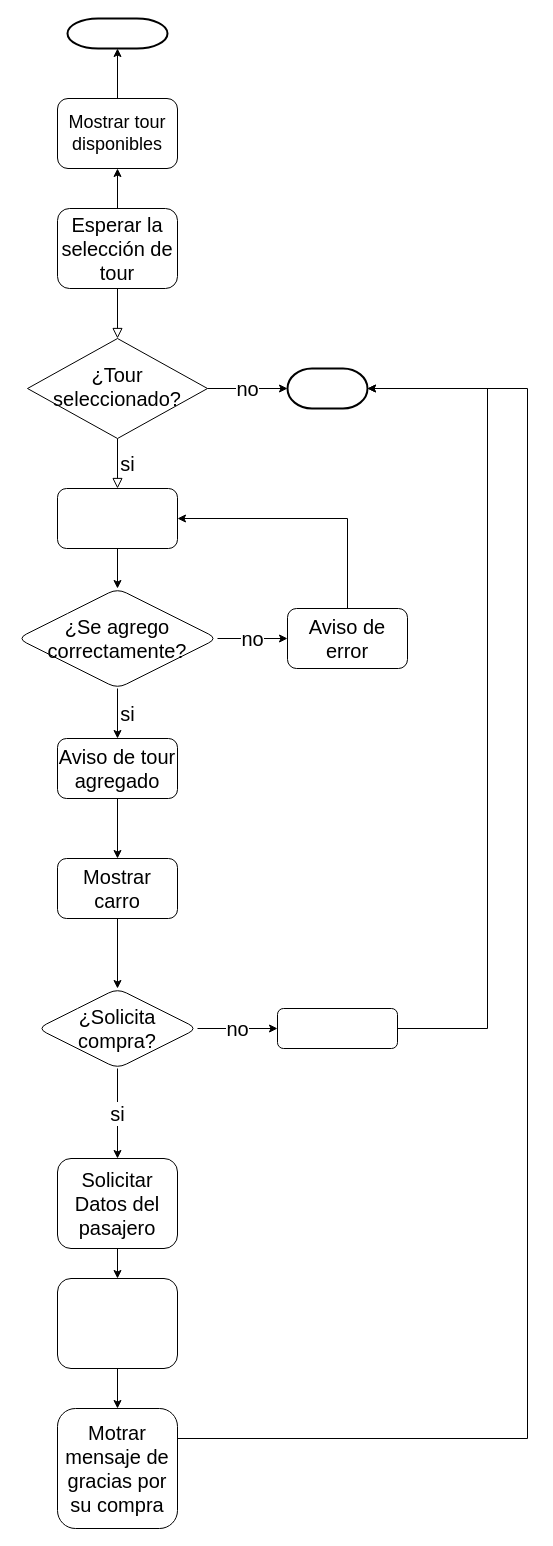
This 553x1546 diagram has some shape labels left out. Here are the shapes that lost their labels. From the top down, the centre of each, then its label:
(x=117, y=33): Inicio
(x=327, y=388): Fin
(x=117, y=518): Agregar el tour carro
(x=337, y=1028): vuelve atrás
(x=117, y=1323): Ingresar datos para confirmar
